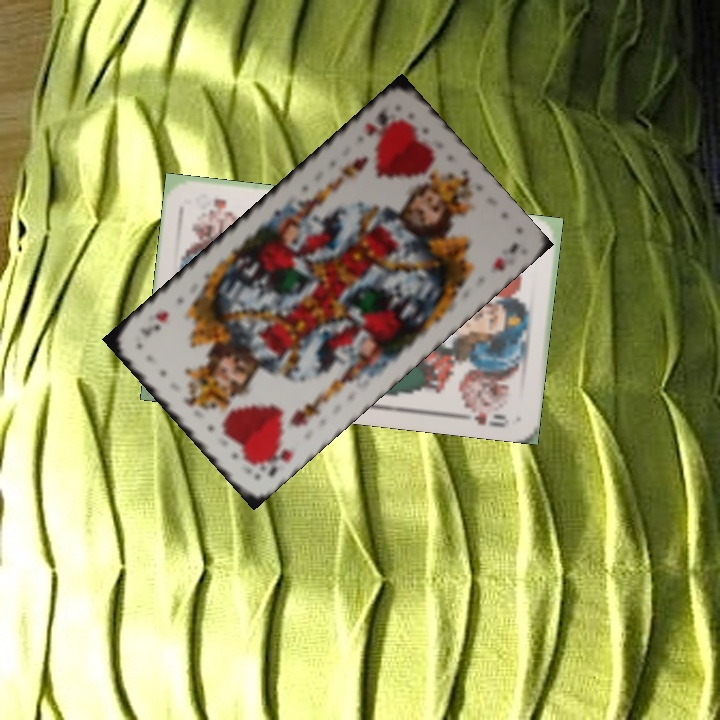HK: (250, 438, 296, 479), (361, 104, 392, 140)
